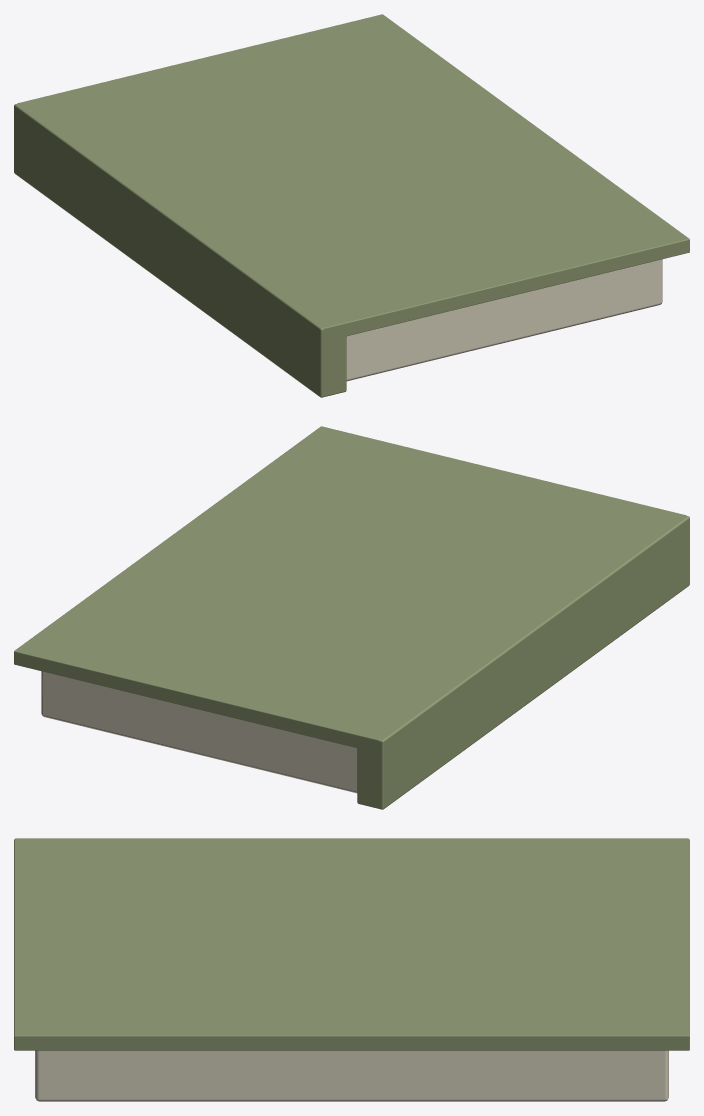
The model's file is scavengers-loot-library-notebook-7bdf4bc5__2658.glb.
3 renders of one model, top to bottom at view 1: azimuth 30°, elevation 25°; view 2: azimuth 150°, elevation 25°; view 3: azimuth 270°, elevation 25°, orthographic. The views are drawn at different scales.
Visible parts, largest first — view 1: notebook; view 2: notebook; view 3: notebook.
Part boxes in pixels (x1=…): notebook: x1=14, y1=14, x2=689, y2=397; notebook: x1=14, y1=426, x2=689, y2=809; notebook: x1=14, y1=838, x2=689, y2=1101.
Size of the model in its own units: 0.111 by 0.02 by 0.16.
